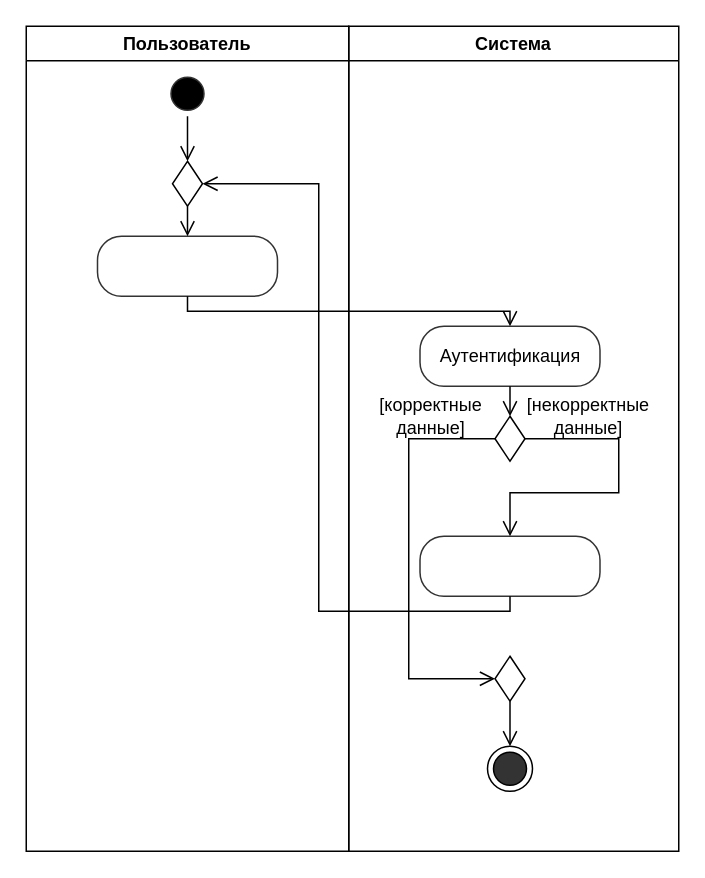
This 705x878 diagram has some shape labels left out. Here are the shapes that lost their labels. From the top down, the box of each, then its label:
(96, 235, 278, 296): Ввод логина и пароля
(418, 535, 600, 596): Вывод сообщения об ошибке
